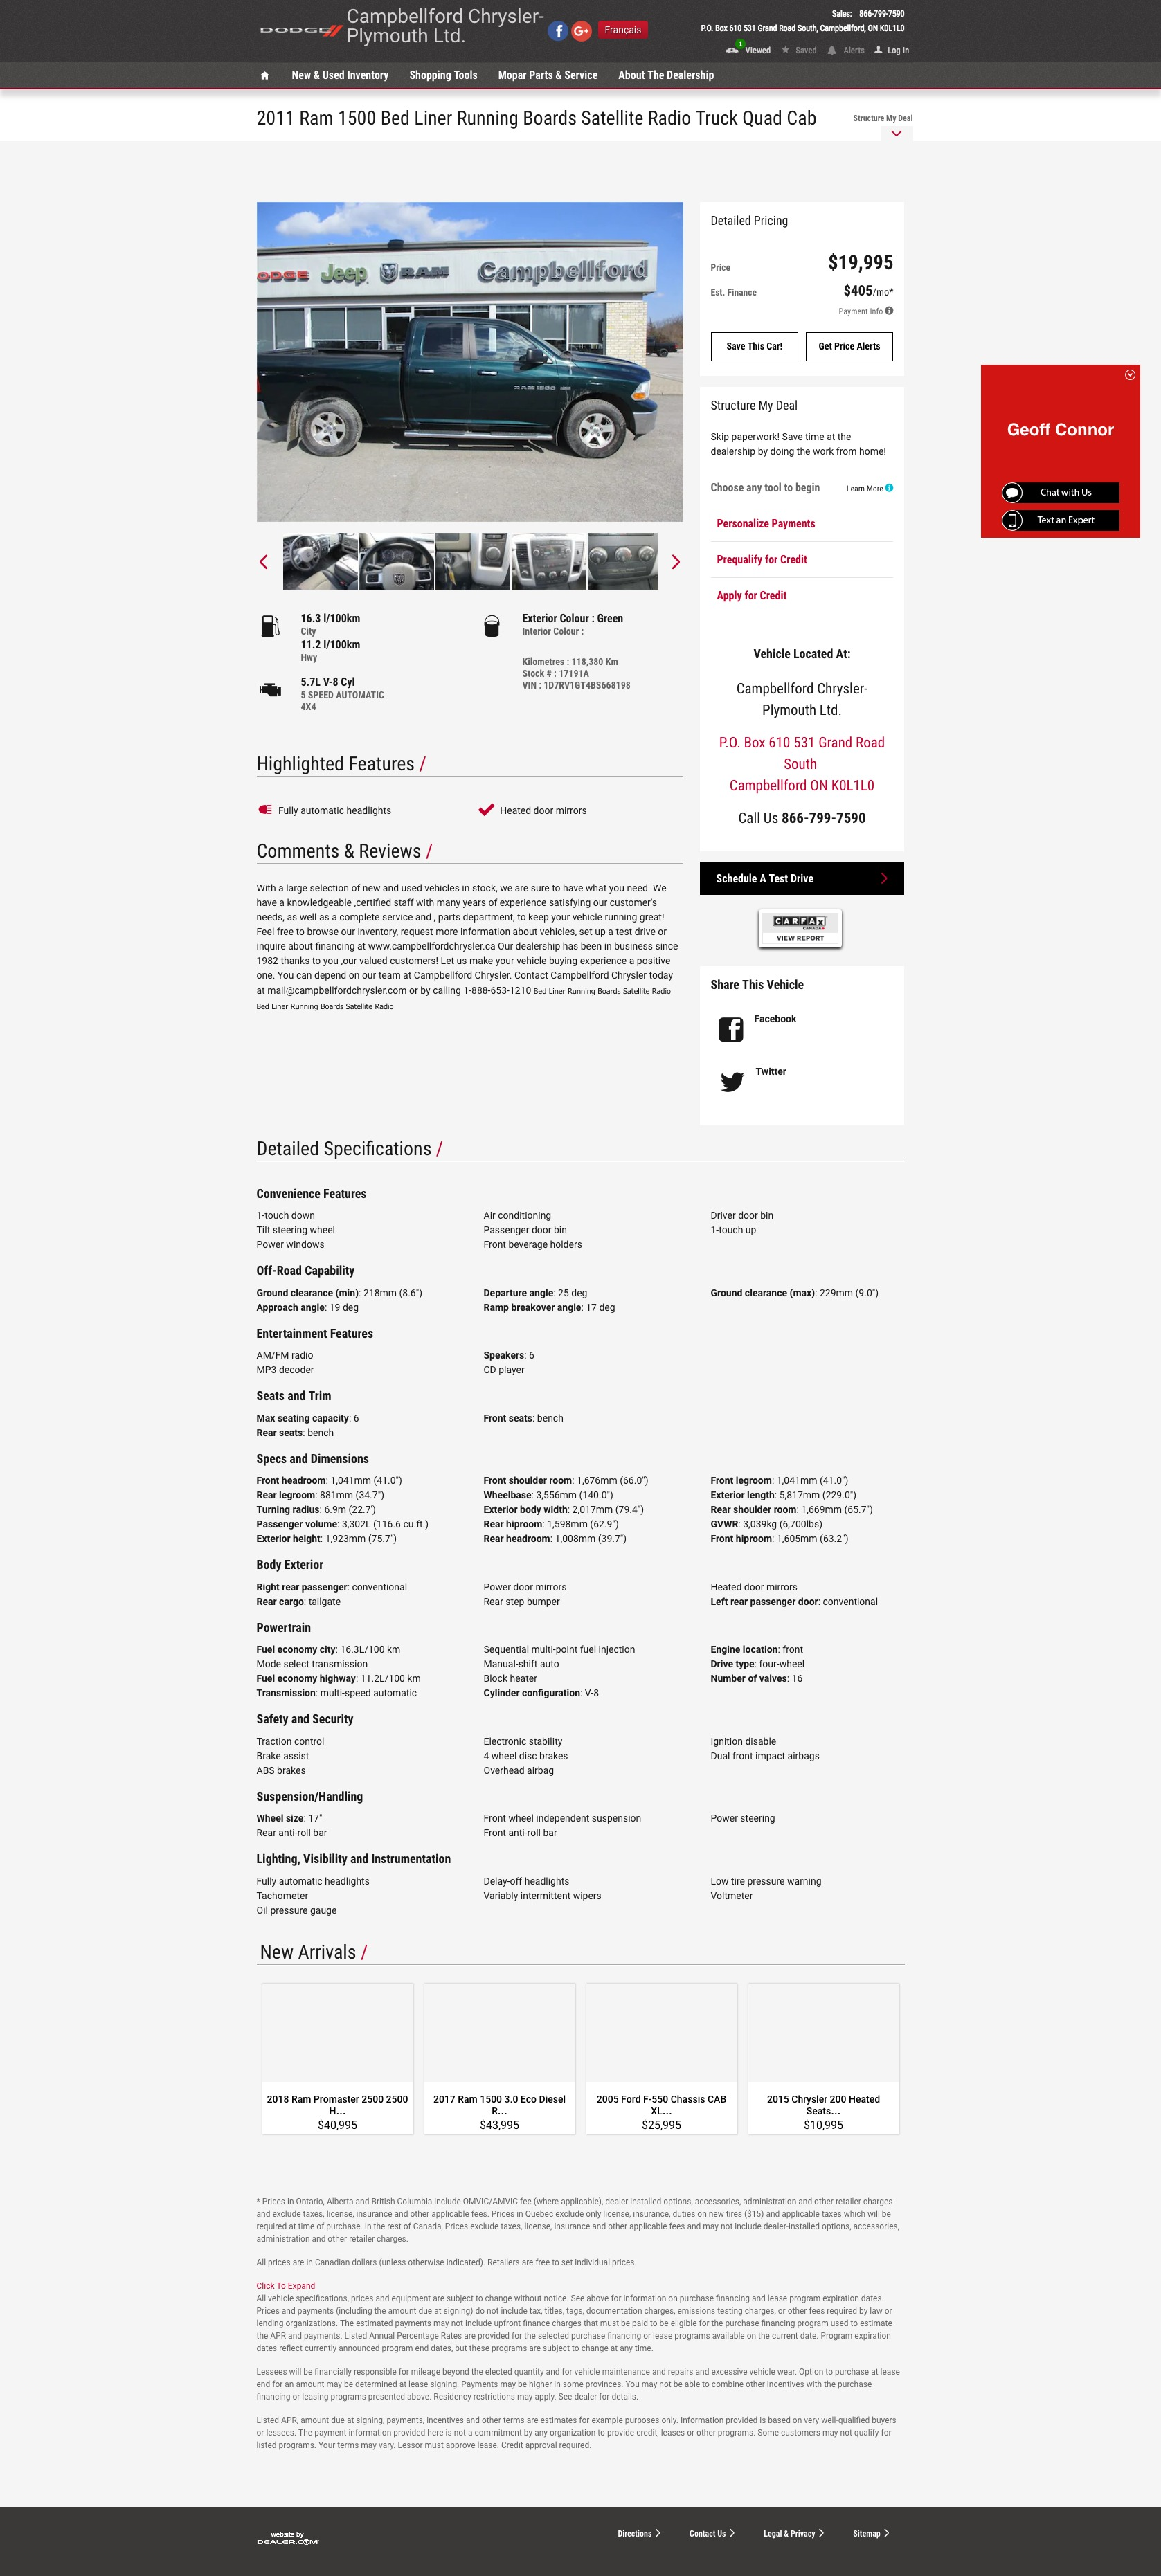car: (671, 555, 681, 570)
